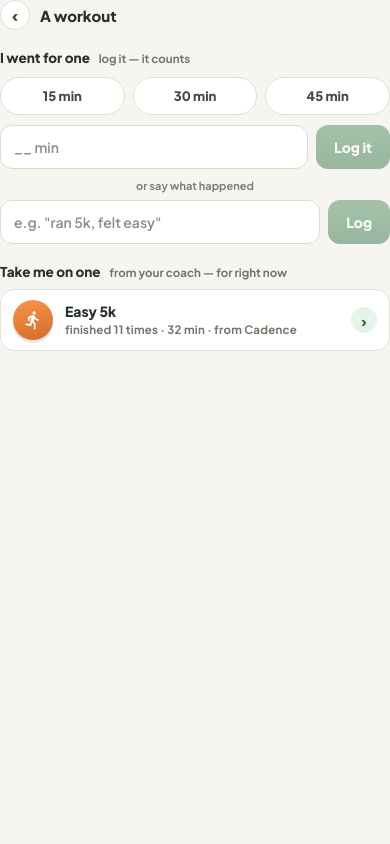
Test: QuickAddTense — the routines shelf › a vanished cached session (ok, but session: null) gets a plainer line — not the fetch-failure one
Click the text "Easy 5k": click(91, 311) [65,302,116,320]
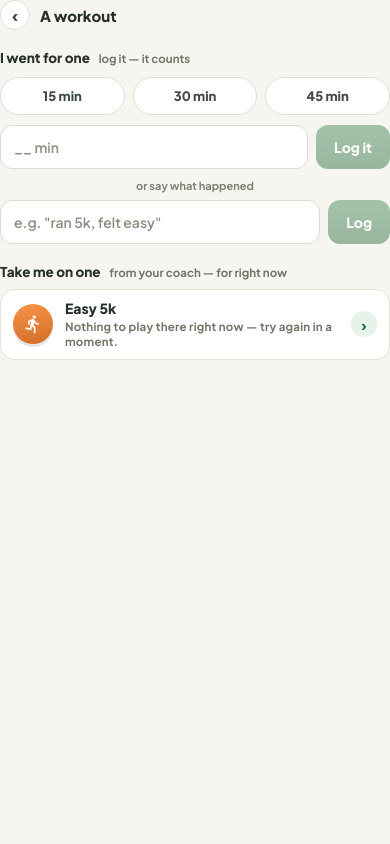
Now the text "Nothing to play there right now — try again in a moment." is shown, box [65,318,339,348]
